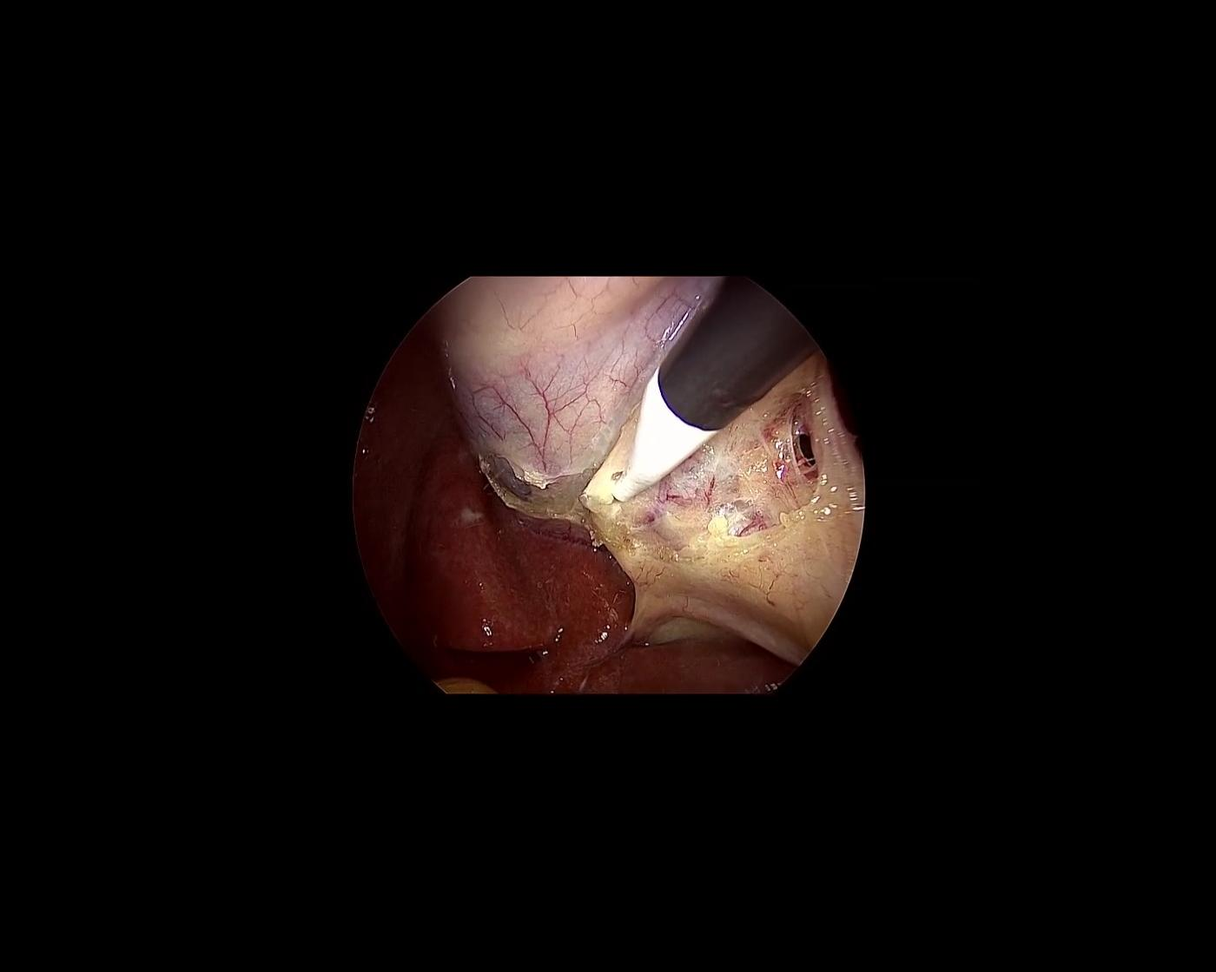Cautery: (548, 261, 820, 517)
Gallbladder: (372, 160, 718, 529)
Liver: (253, 321, 787, 847)
